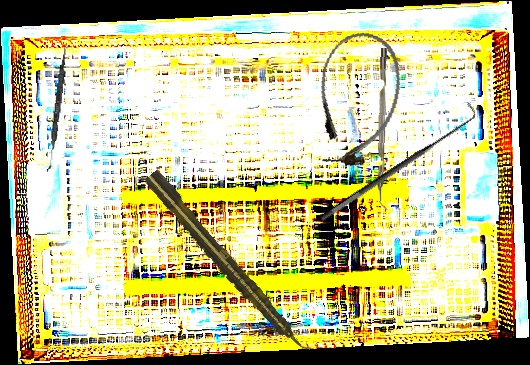Cannula: (303, 24, 411, 175)
Chopper: (375, 47, 395, 211)
Handpiece: (142, 167, 314, 361)
Hook Surgical: (311, 99, 484, 224)
Spatula Surgical: (47, 41, 68, 174)
